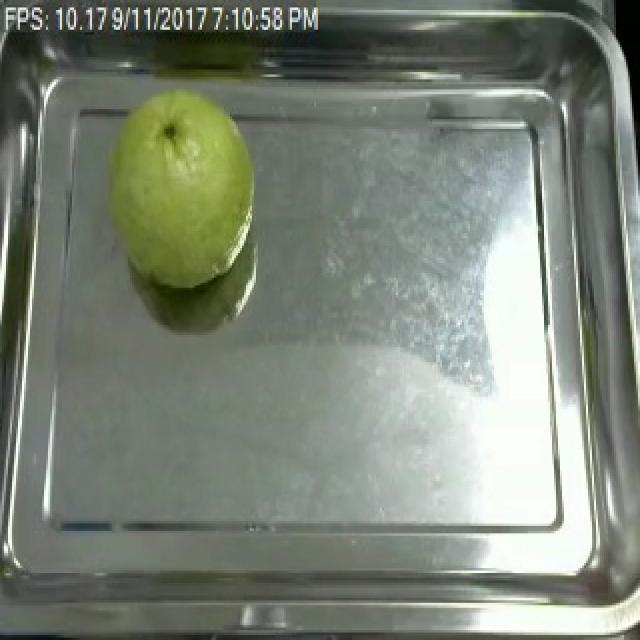Fruit: (90, 77, 264, 298)
